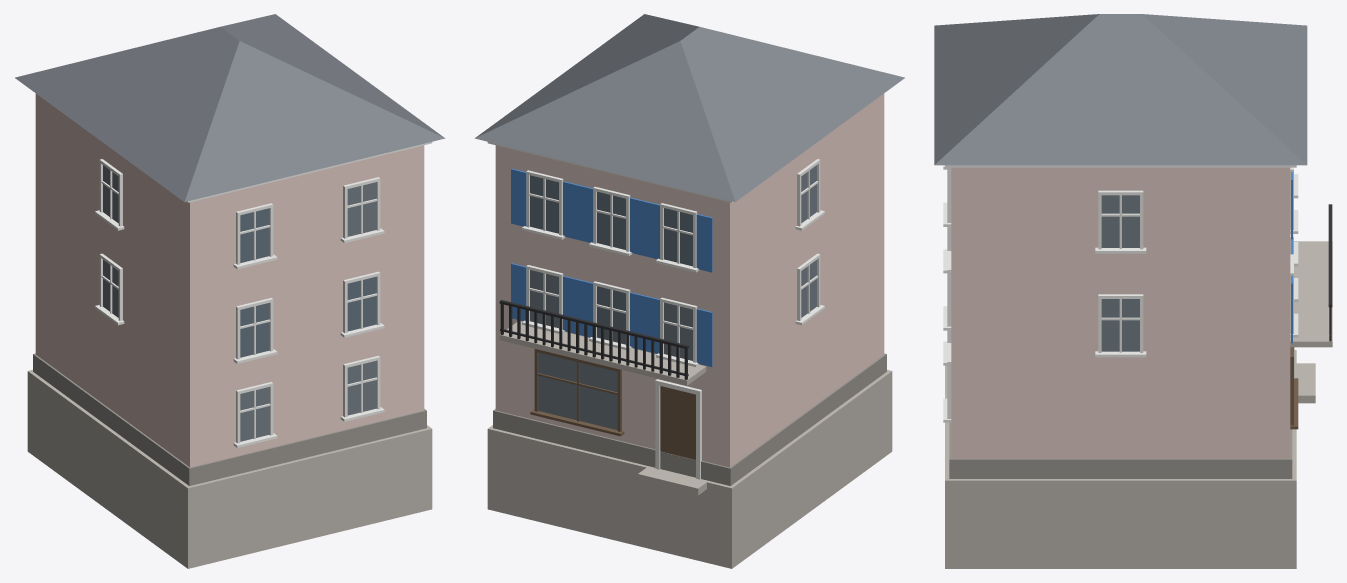
Rendered from house_c.glb.
3 views of the same model, side by side, from view 1: azimuth 30°, elevation 25°; view 2: azimuth 150°, elevation 25°; view 3: azimuth 270°, elevation 25° (orthographic). The views are drawn at different scales.
Visible parts, largest first — view 1: house_c; view 2: house_c; view 3: house_c.
Part boxes in pixels (box(x1,y1,x2,y2)): house_c: box(15, 14, 445, 568); house_c: box(474, 14, 904, 568); house_c: box(934, 14, 1332, 568).
Bounding box in the file's own units: 7.8 × 12.75 × 9.4.
